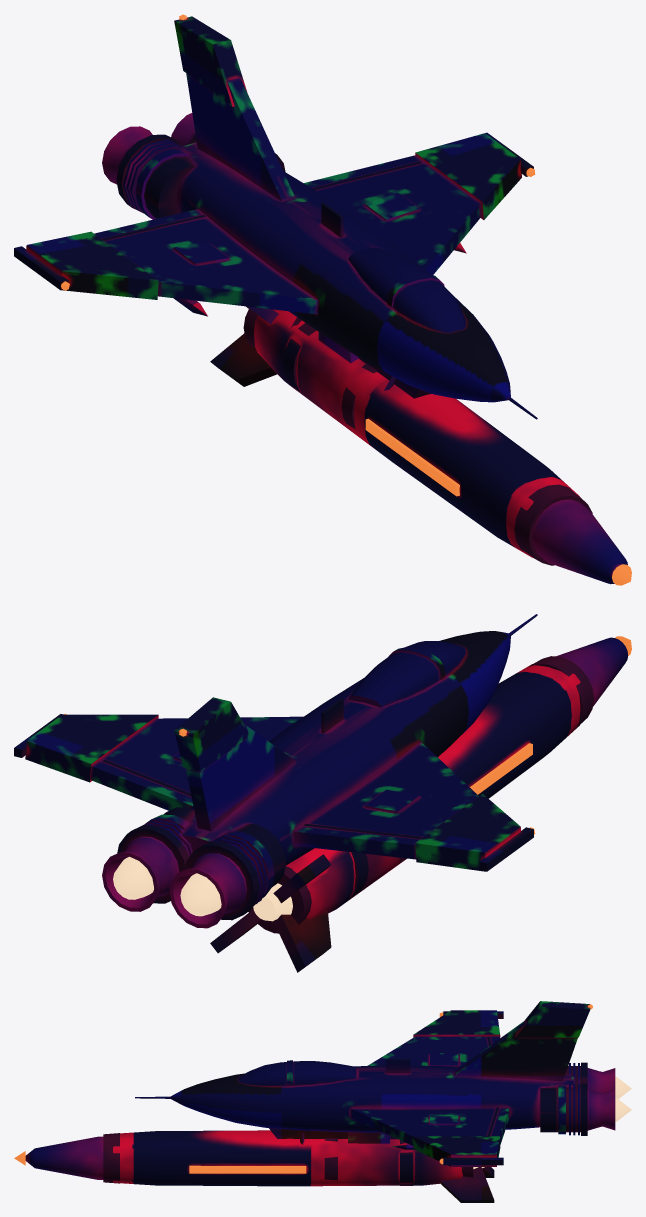
Rendered from lance_bomber.glb.
The picture shows the model from 3 angles, top to bottom: view 1: azimuth 30°, elevation 25°; view 2: azimuth 150°, elevation 25°; view 3: azimuth 270°, elevation 25°; orthographic projection. The views are drawn at different scales.
Visible parts, largest first — view 1: lance_bomber; view 2: lance_bomber; view 3: lance_bomber.
Part boxes in pixels (x1,y1,x2,y2): lance_bomber: (14,14,631,585); lance_bomber: (14,614,631,972); lance_bomber: (14,1001,631,1202).
Size of the model in its own units: 3.87 by 2.27 by 6.81.
12 materials, 10 textured.
